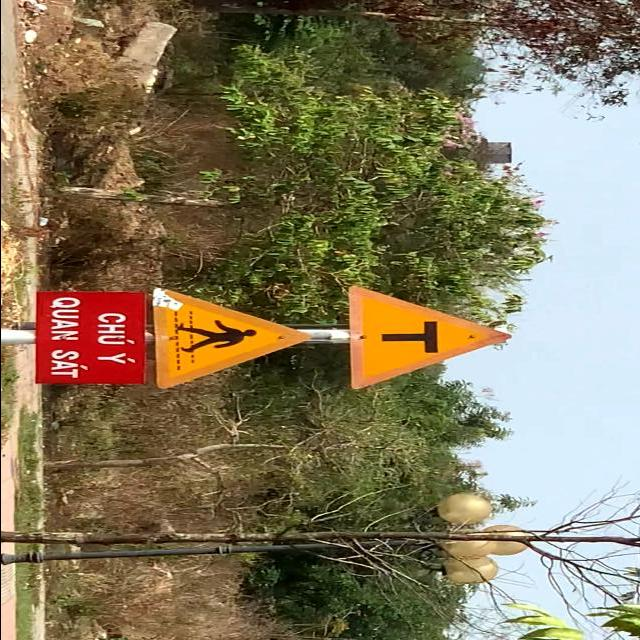W-205d: (347, 284, 511, 390)
W-224: (151, 285, 311, 388)
